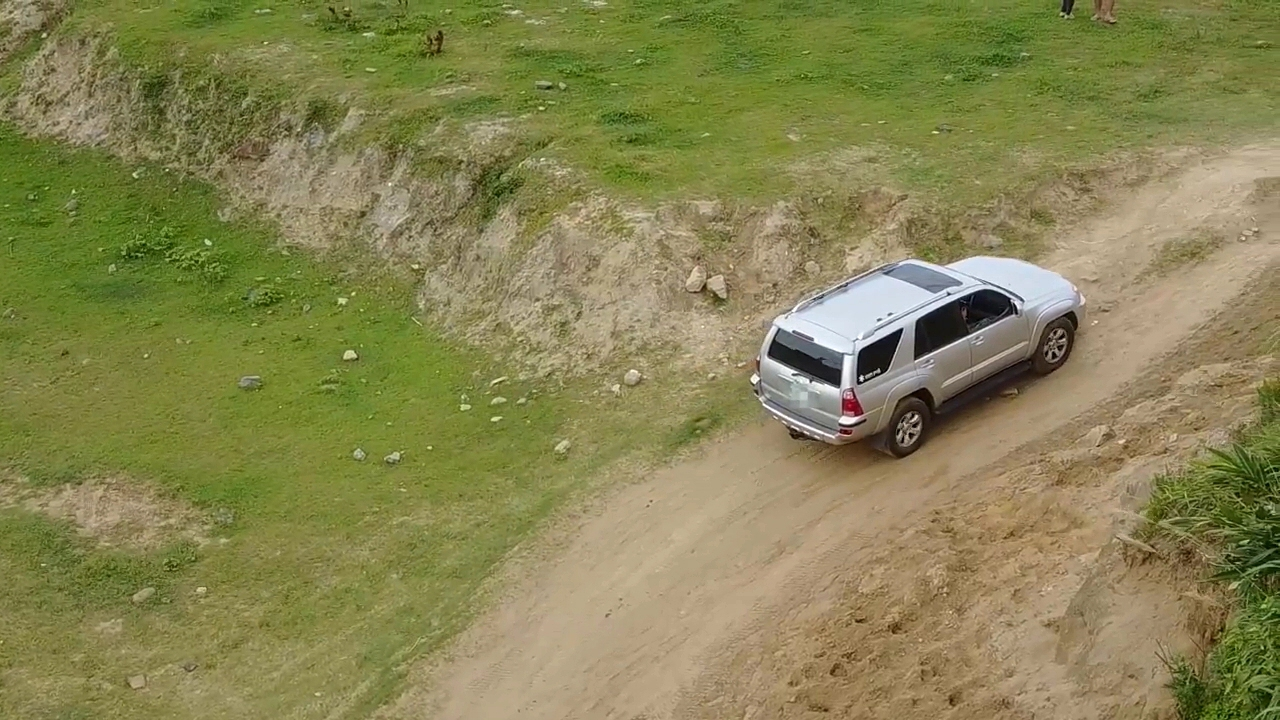araba: (753, 253, 1086, 460)
